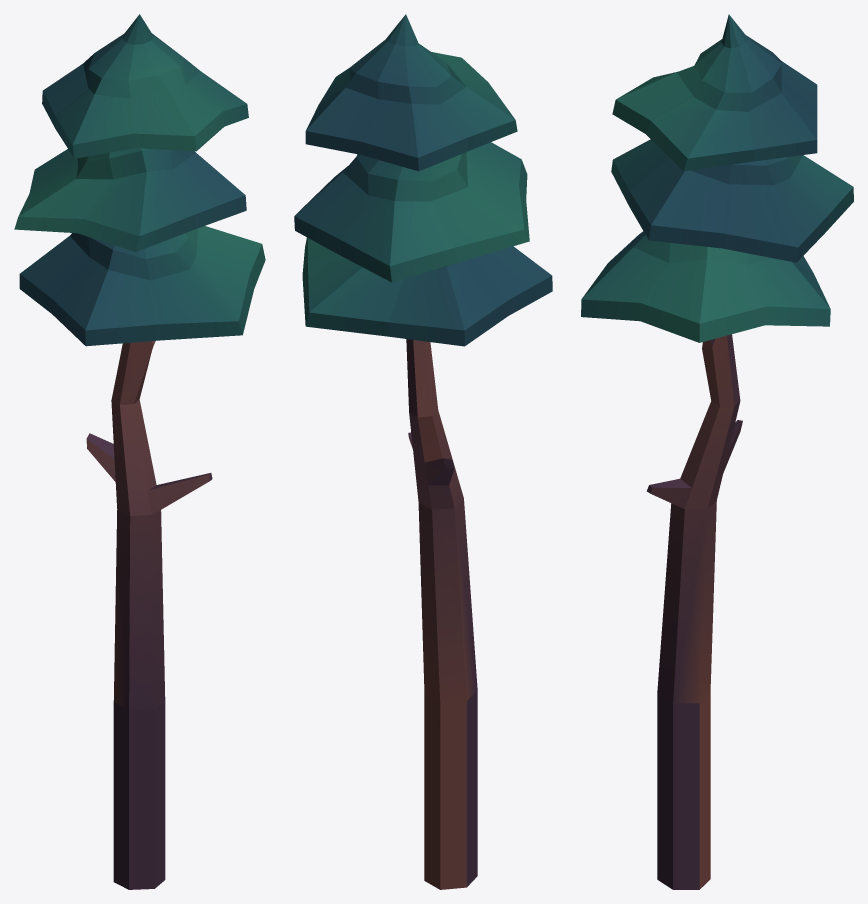
Rendered from Tree_Pine04.fbx.
The picture shows the model from 3 angles, left to right: view 1: azimuth 30°, elevation 25°; view 2: azimuth 150°, elevation 25°; view 3: azimuth 270°, elevation 25°; orthographic projection. The views are drawn at different scales.
Visible parts, largest first — view 1: TolTreeTrunk5; view 2: TolTreeTrunk5; view 3: TolTreeTrunk5.
Part boxes in pixels (x1,y1,x2,y2): TolTreeTrunk5: (14,14,265,889); TolTreeTrunk5: (294,14,552,889); TolTreeTrunk5: (581,14,853,889).
Size of the model in its own units: 175 by 606 by 171.
